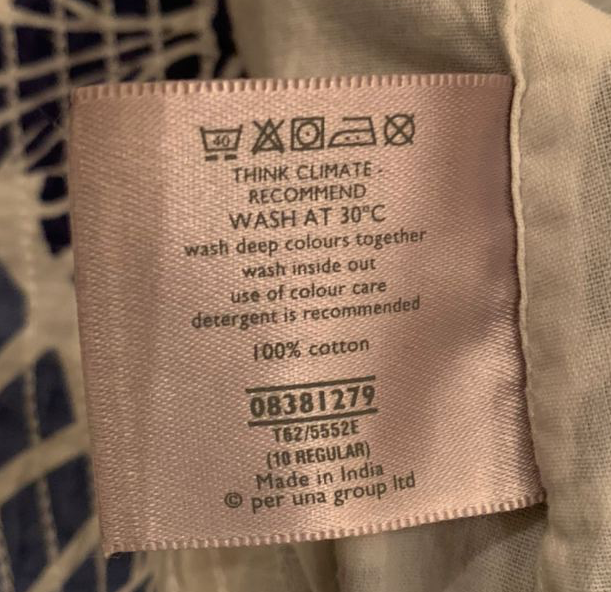do_not_bleach: (248, 112, 288, 154)
do_not_dry_clean: (379, 106, 418, 148)
ironing_at_med_temp: (327, 112, 379, 151)
tumble_drying_low_temps: (288, 112, 328, 152)
wash_at_or_below_40_mild_fine_wash: (199, 119, 244, 162)
